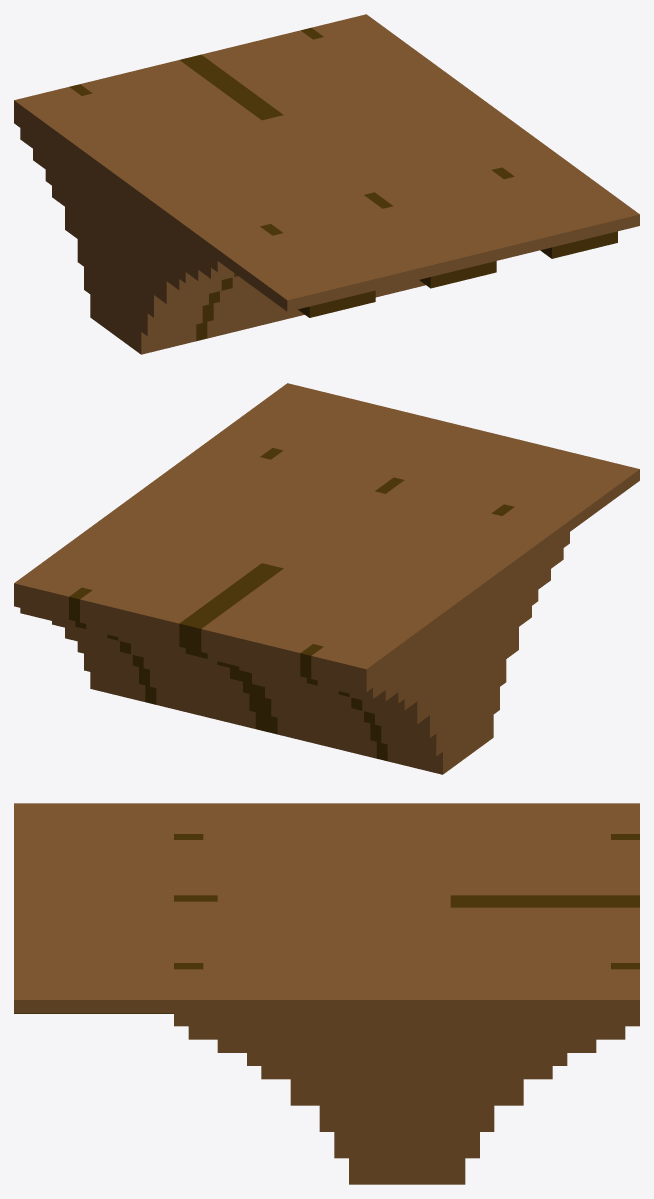
The model's file is GameAsset-6.obj.
3 views of the same model, one above another, from view 1: azimuth 30°, elevation 25°; view 2: azimuth 150°, elevation 25°; view 3: azimuth 270°, elevation 25° (orthographic). The views are drawn at different scales.
Size of the model in its own units: 3.2 by 1.4 by 4.3.
Materials: 1 (1 with a texture image).
